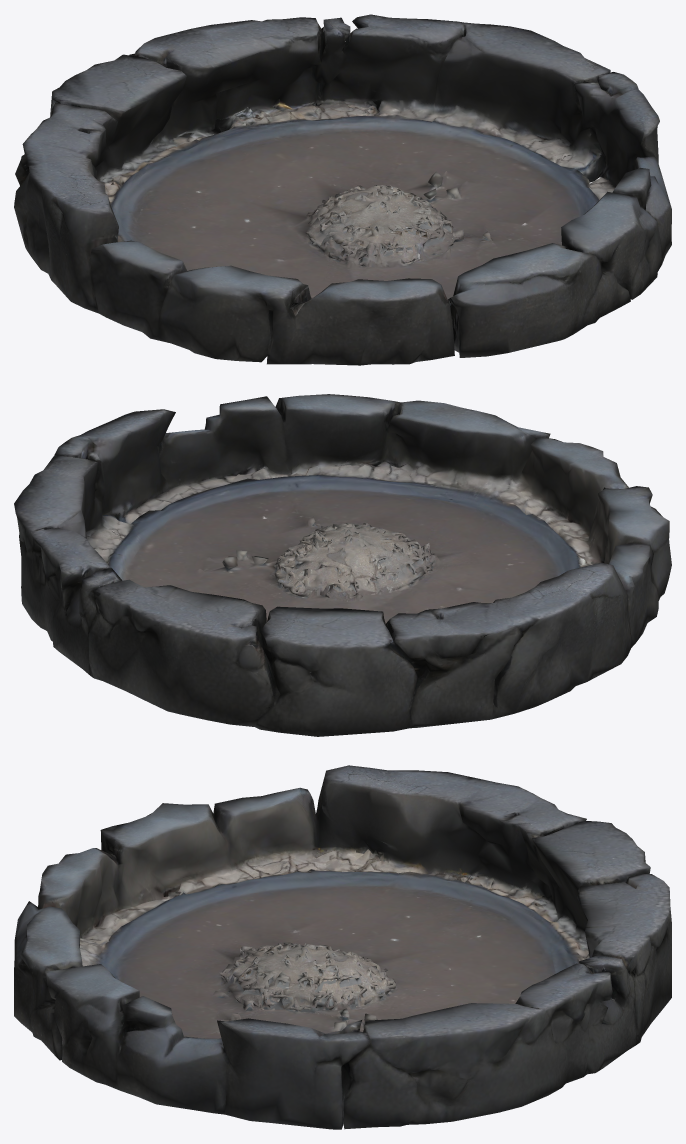
File: Pothole.glb
The picture shows the model from 3 angles, top to bottom: view 1: azimuth 30°, elevation 25°; view 2: azimuth 150°, elevation 25°; view 3: azimuth 270°, elevation 25°; orthographic projection.
Bounding box in the file's own units: 1.99 × 0.306 × 2.
Materials: 1 (1 with a texture image).
